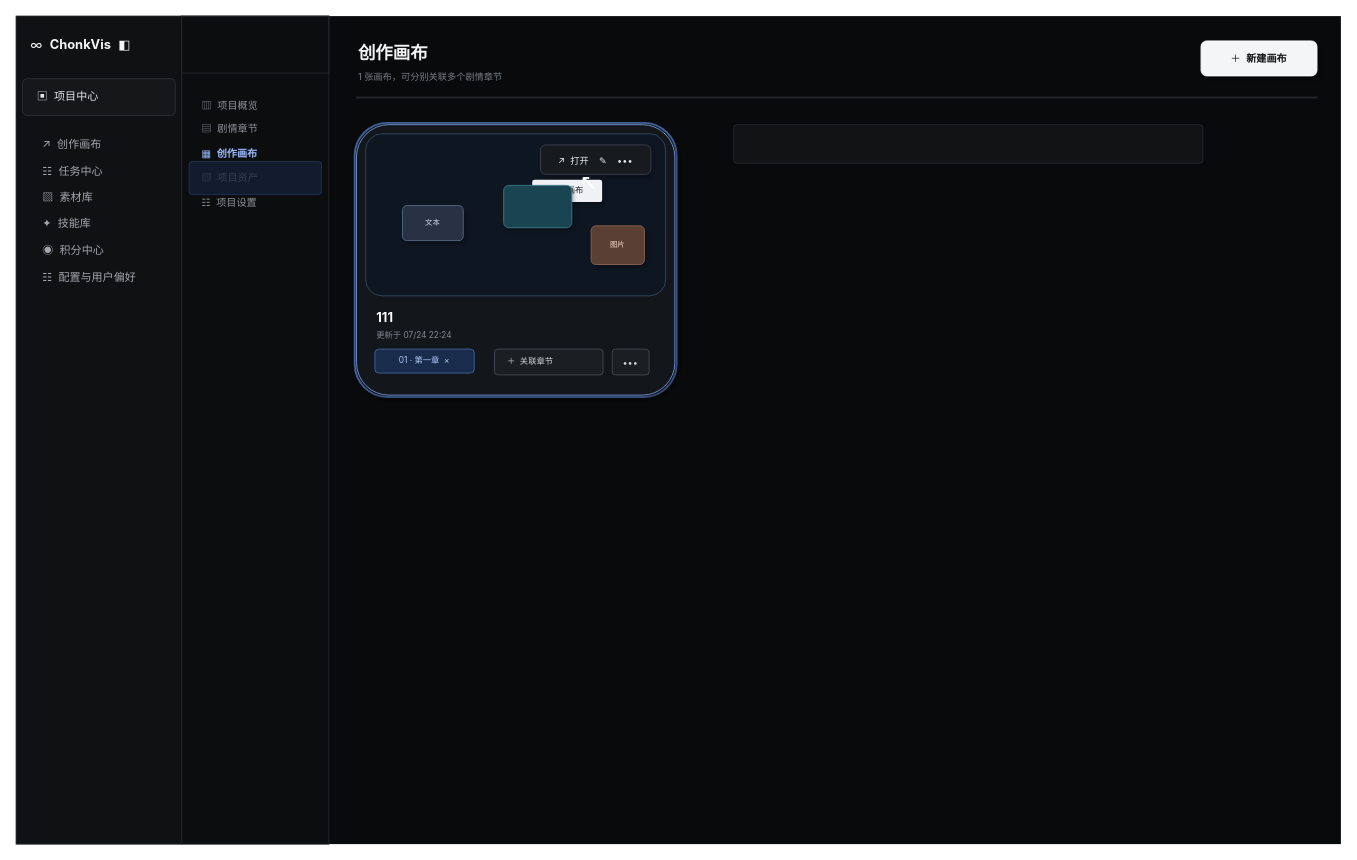
This 1357x860 diagram has some shape labels left out. Here are the shapes that lost their labels. From the top down, the centre of each, then its label:
the point at 255,44: ‹ ▱ 测试项目 1 ● 进行中
the point at 968,143: 悬停反馈：卡片上移 2px，描边变亮，节点表面增强；快捷工具条 160ms 淡入，离开即消失。
the point at 538,207: 分镜
